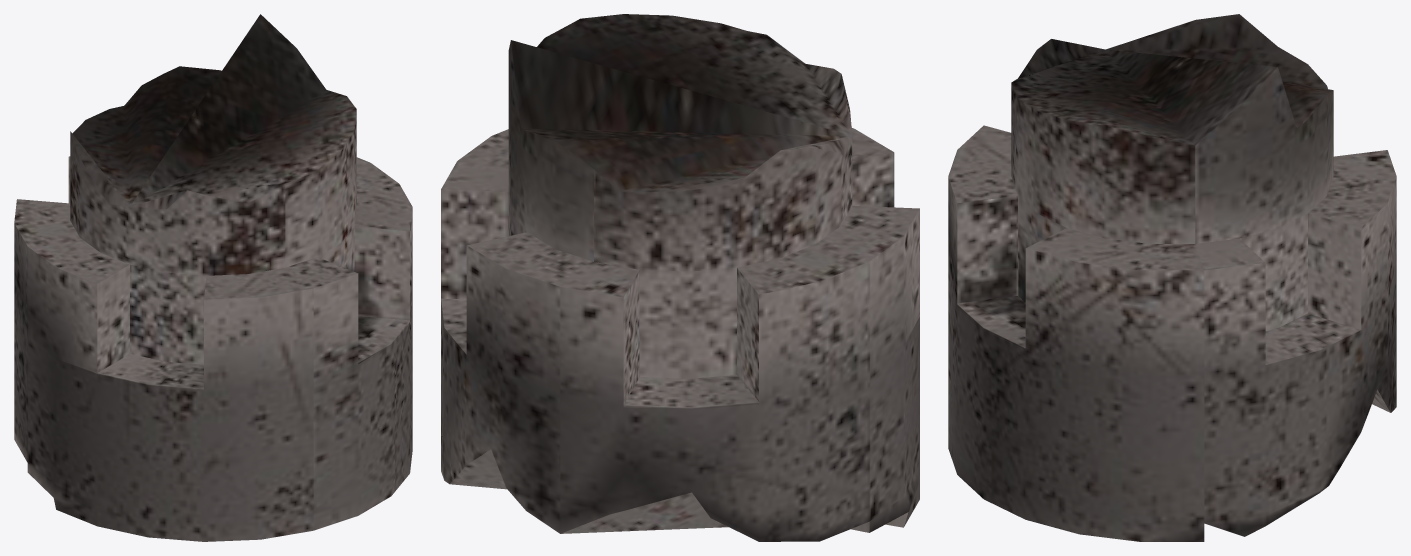
File: item8.fbx
3 views of the same model, side by side, from view 1: azimuth 30°, elevation 25°; view 2: azimuth 150°, elevation 25°; view 3: azimuth 270°, elevation 25° (orthographic). The views are drawn at different scales.
Parts seen in each view (by area): view 1: Item8; view 2: Item8; view 3: Item8.
Boxes of the visible parts, x1=… form: Item8: x1=14, y1=14, x2=412, y2=541; Item8: x1=441, y1=14, x2=919, y2=541; Item8: x1=948, y1=14, x2=1396, y2=541.
Size of the model in its own units: 145 by 155 by 145.
